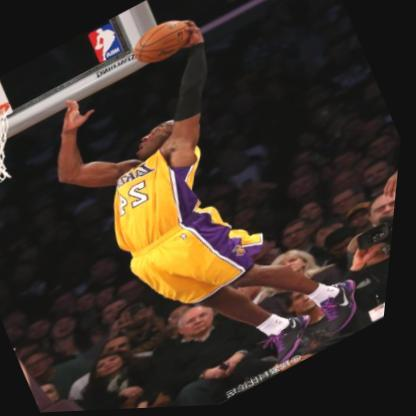basketball: (128, 12, 199, 73)
rim: (0, 95, 46, 206)
